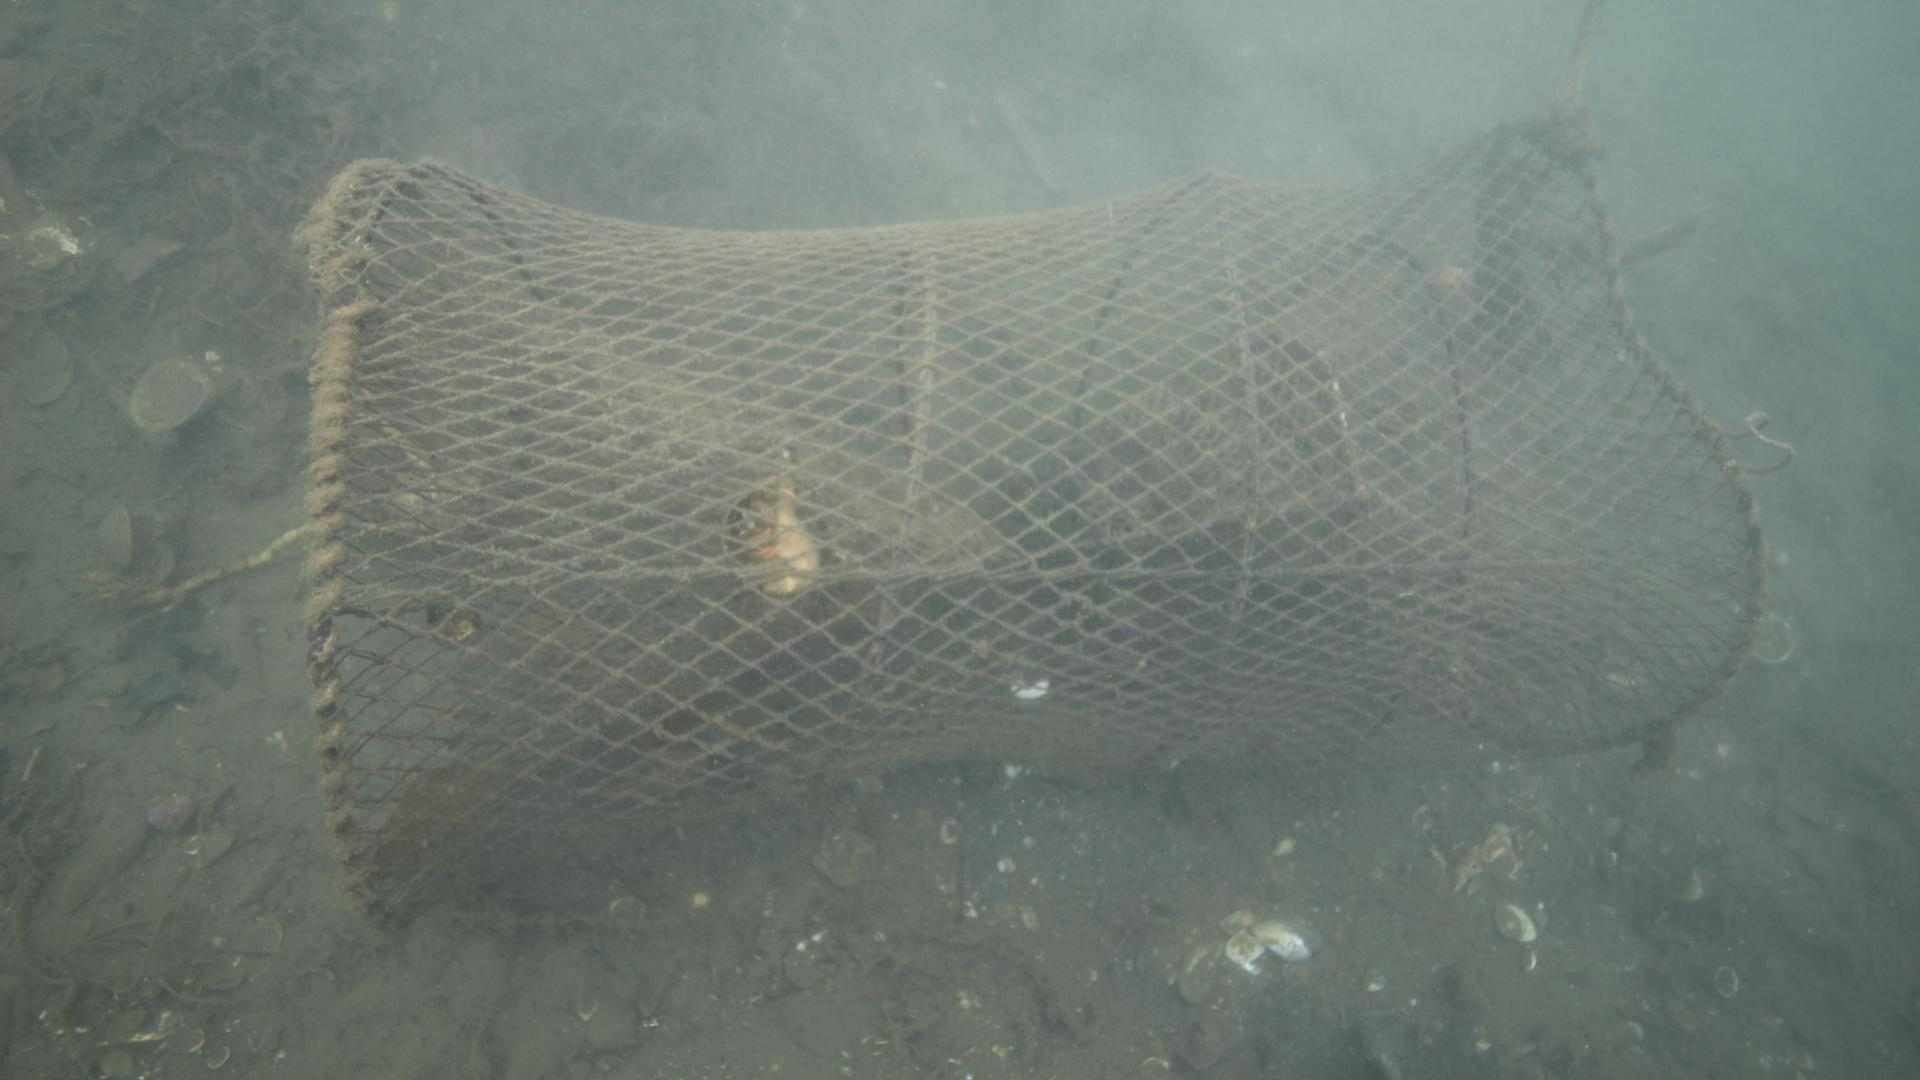spring fish trap: (302, 113, 1768, 942)
